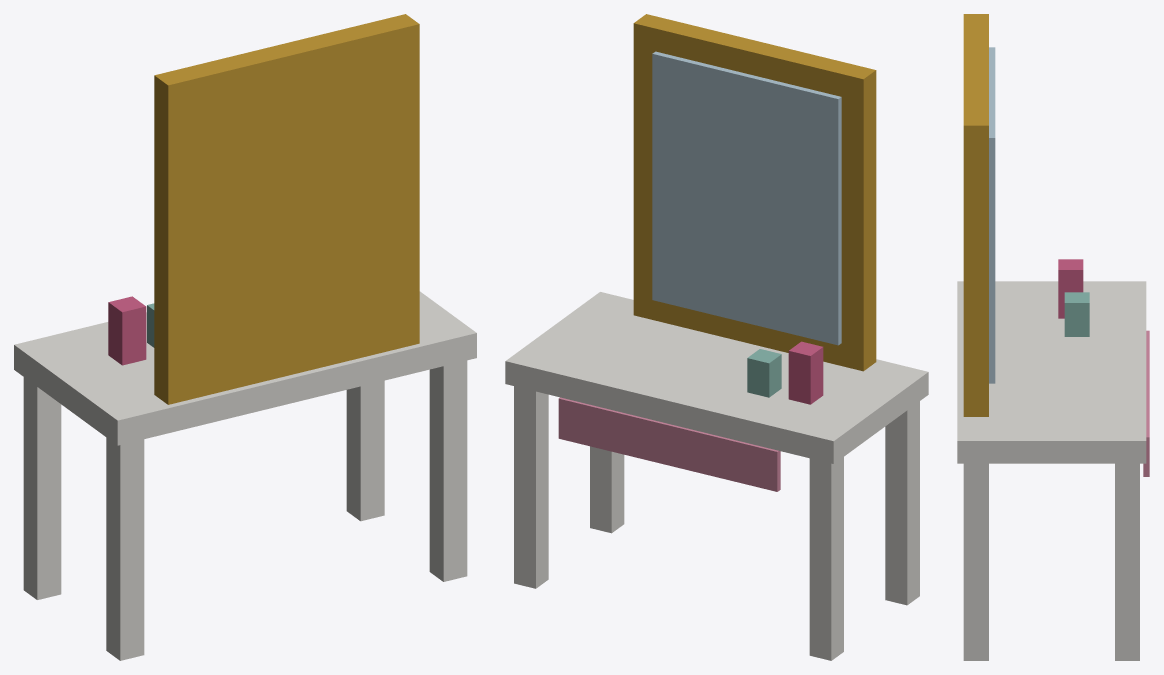
Rendered from ncb-vanity.glb.
3 views of the same model, side by side, from view 1: azimuth 30°, elevation 25°; view 2: azimuth 150°, elevation 25°; view 3: azimuth 270°, elevation 25° (orthographic). The views are drawn at different scales.
Parts seen in each view (by area): view 1: box-prop; view 2: box-prop; view 3: box-prop.
Boxes of the visible parts, x1=… form: box-prop: x1=14, y1=14, x2=476, y2=660; box-prop: x1=505, y1=14, x2=928, y2=660; box-prop: x1=957, y1=14, x2=1149, y2=660.
Bounding box in the file's own units: 1.2 × 1.8 × 0.61.
